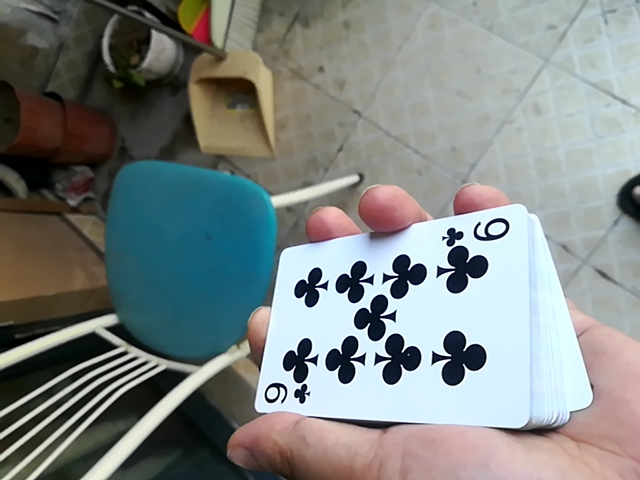mh 9: (243, 193, 588, 429)
